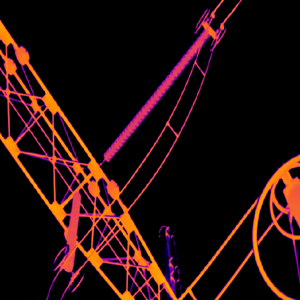insulator: (102, 27, 208, 163), (63, 190, 81, 273)
